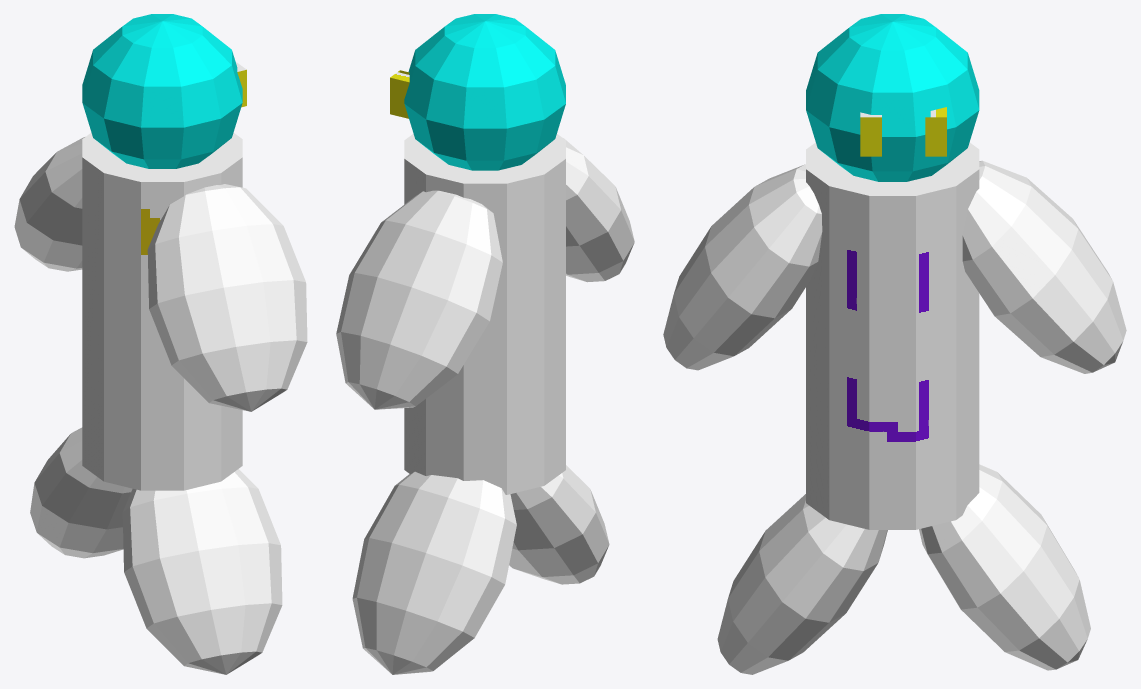
File: Ma name is jeff.gltf
3 views of the same model, side by side, from view 1: azimuth 30°, elevation 25°; view 2: azimuth 150°, elevation 25°; view 3: azimuth 270°, elevation 25° (orthographic). The views are drawn at different scales.
Parts seen in each view (by area): view 1: sphere (×5), cylinder; view 2: sphere (×5), cylinder, mesh; view 3: sphere (×5), cylinder, mesh (×2).
Part boxes in pixels (x1,y1,x2,y2): sphere (×5): (14,14,307,674); cylinder: (82,132,242,490); sphere (×5): (336,14,634,674); cylinder: (404,134,565,494); mesh: (390,70,409,118); sphere (×5): (663,14,1126,674); cylinder: (806,142,979,529); mesh (×2): (860,107,946,156).
Bounding box in the file's own units: 1.01 × 4.12 × 2.67.
Materials: 4 (4 with a texture image).
